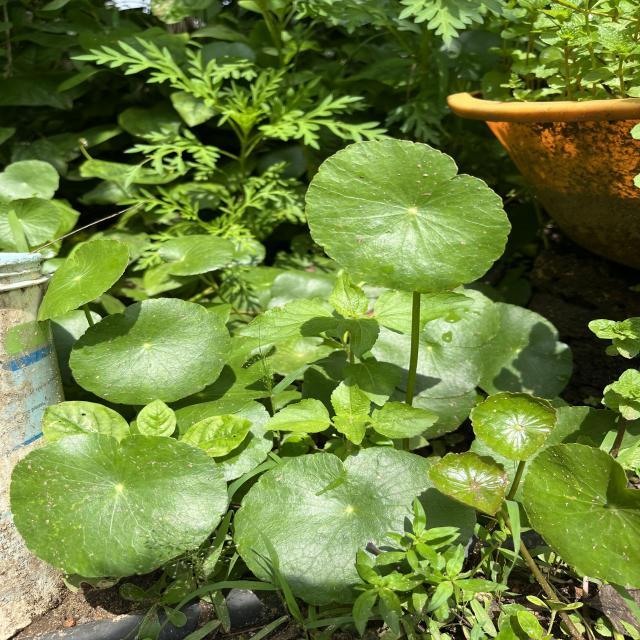Bacopa monnieri: (302, 136, 514, 296), (8, 430, 232, 580), (66, 296, 235, 408), (517, 439, 640, 590), (32, 235, 132, 325), (467, 390, 561, 464), (426, 450, 513, 518)
